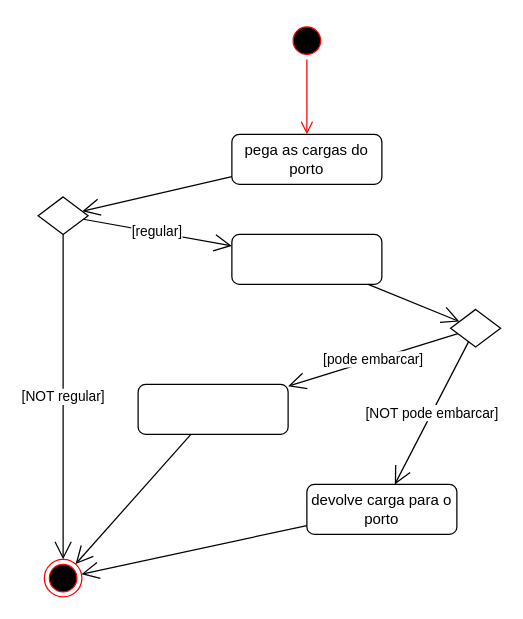
Some shapes in this 523 by 619 pixel diagram are drawn without their labels. Each missing label, with the centre of its shape:
"carga embarcada" belongs at pixel 212 408.
"verifica quais cargas podem embarcar" belongs at pixel 306 258.
